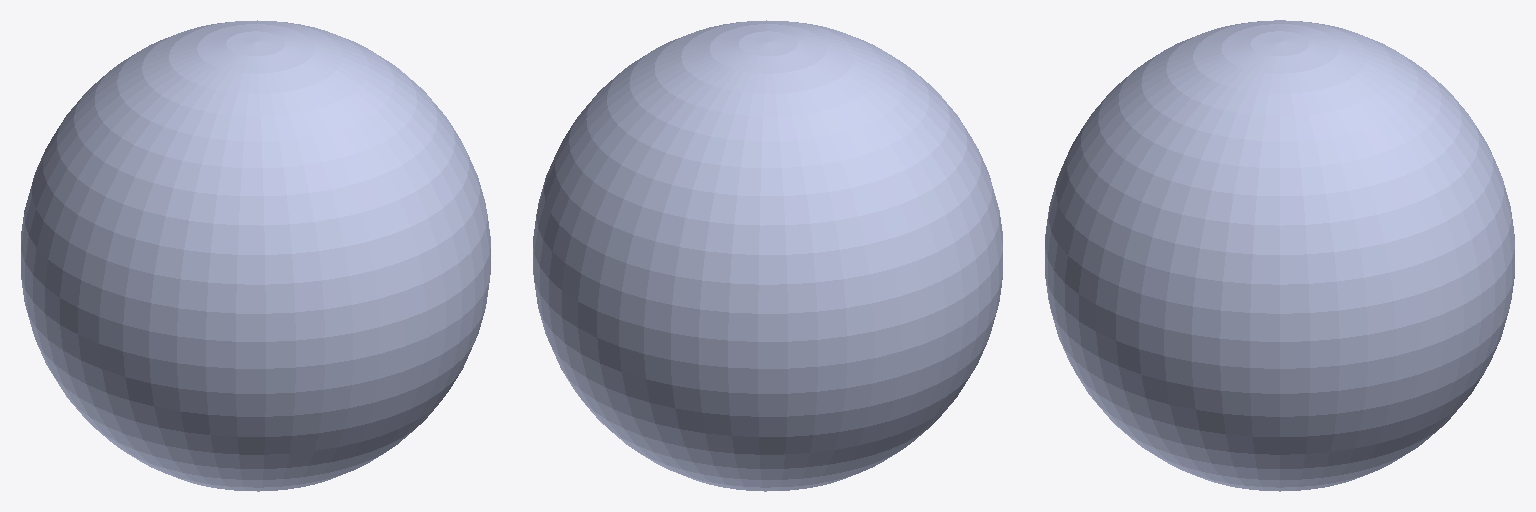
The robot description file, URDF, robot "tennis_ball1":
<?xml version="1.0" encoding="utf-8"?>
<!-- This URDF was automatically created by SolidWorks to URDF Exporter! Originally created by Stephen Brawner (brawner@gmail.com) 
     Commit Version: 1.6.0-4-g7f85cfe  Build Version: 1.6.7995.38578
     For more information, please see http://wiki.ros.org/sw_urdf_exporter -->
<robot
  name="tennis_ball1">
  <link
    name="base_link">
    <inertial>
      <origin
        xyz="0.0052617 0.023963 0.046898"
        rpy="0 0 0" />
      <mass
        value="0.02382" />
      <inertia
        ixx="8.6651E-06"
        ixy="1.4204E-37"
        ixz="0"
        iyy="8.6651E-06"
        iyz="0"
        izz="8.6651E-06" />
    </inertial>
    <visual>
      <origin
        xyz="0 0 0"
        rpy="0 0 0" />
      <geometry>
        <mesh
          filename="package://tennis_ball1/meshes/base_link.STL" />
      </geometry>
      <material
        name="">
        <color
          rgba="0.79216 0.81961 0.93333 1" />
      </material>
    </visual>
    <collision>
      <origin
        xyz="0 0 0"
        rpy="0 0 0" />
      <geometry>
        <mesh
          filename="package://tennis_ball1/meshes/base_link.STL" />
      </geometry>
    </collision>
  </link>
</robot>

--- Render facts (derived) ---
3 views of the same robot in one strip: view 1: azimuth 30°, elevation 25°; view 2: azimuth 150°, elevation 25°; view 3: azimuth 270°, elevation 25° (orthographic).
Robot: tennis_ball1 — 1 links, 0 joints (none); root link base_link; default pose: every joint at zero.
Visible links, largest first — view 1: base_link; view 2: base_link; view 3: base_link.
Boxes of the visible links, bbox=[...] form: base_link: bbox=[21, 20, 490, 491]; base_link: bbox=[533, 20, 1002, 491]; base_link: bbox=[1045, 20, 1514, 491].
Bounding box of the posed robot: 0.0499 × 0.0499 × 0.05 m (x, y, z).
Meshes: 1 distinct files referenced, 1 mesh visuals loaded (1 binary STL).
